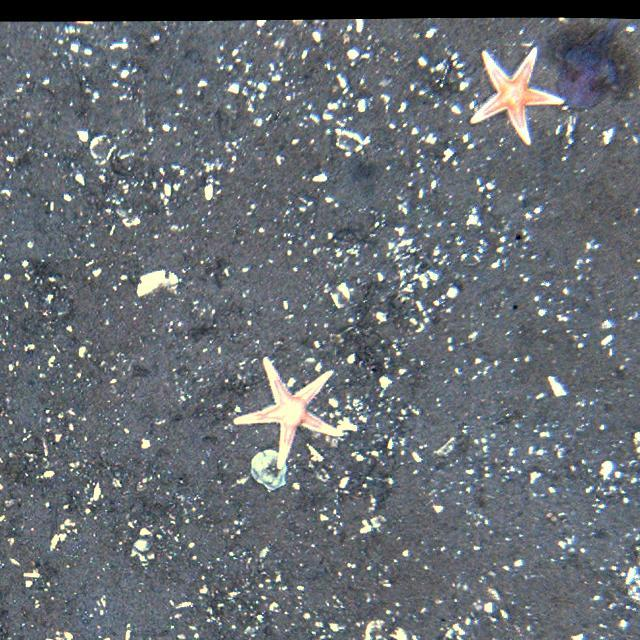roundfish: (556, 18, 628, 110)
